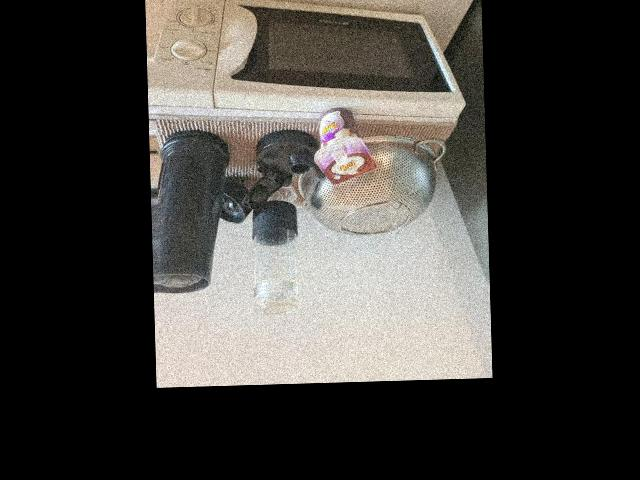milky: (313, 108, 370, 186)
